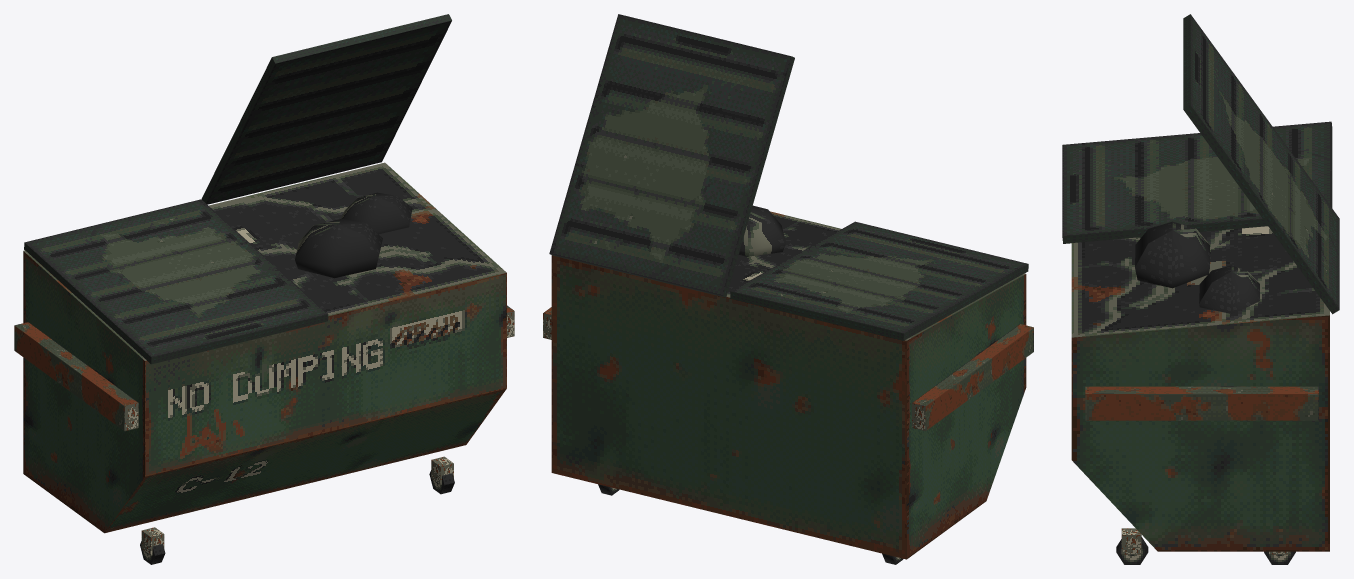
File: dumpster.glb
3 views of the same model, side by side, from view 1: azimuth 30°, elevation 25°; view 2: azimuth 150°, elevation 25°; view 3: azimuth 270°, elevation 25° (orthographic). The views are drawn at different scales.
Visible parts, largest first — view 1: dumpster; view 2: dumpster; view 3: dumpster.
Part boxes in pixels (box(x1,y1,x2,y2)): dumpster: box(14, 14, 514, 564); dumpster: box(543, 14, 1033, 564); dumpster: box(1062, 14, 1339, 564).
Bounding box in the file's own units: 1.94 × 2.13 × 1.13.
1 material, 1 textured.
